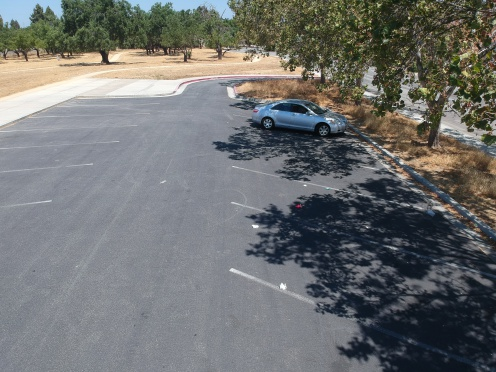plastic bag: (274, 278, 291, 295), (292, 202, 304, 210)
